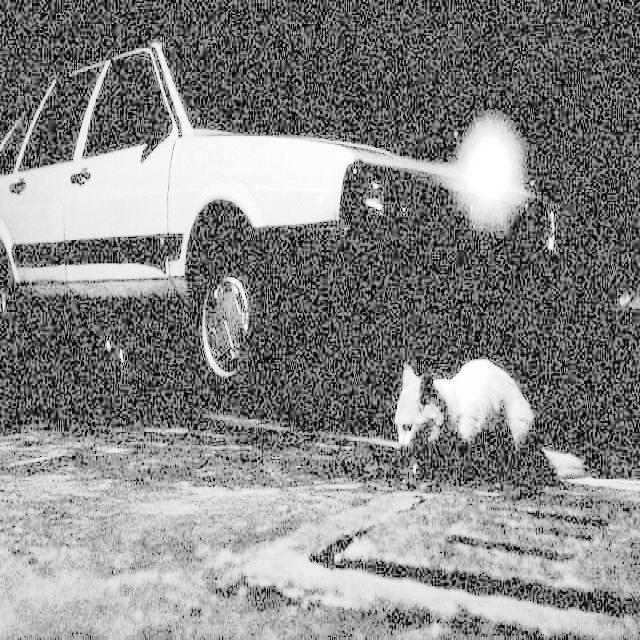Car: (0, 56, 613, 420)
Cat: (390, 360, 540, 478)
